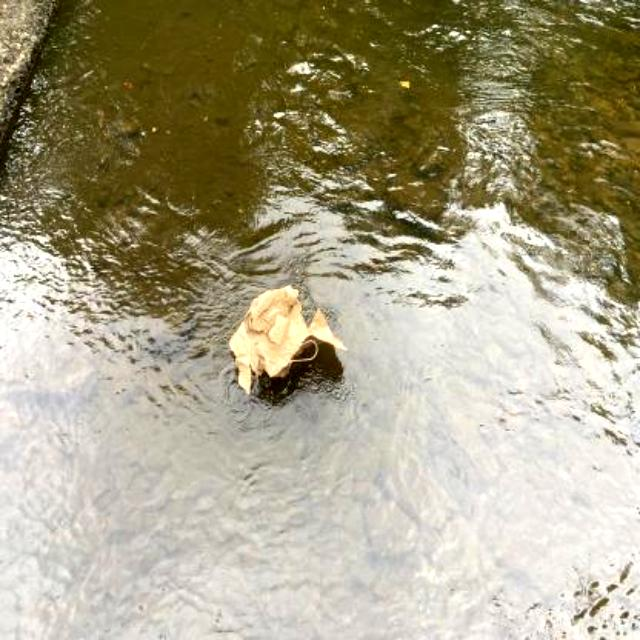Paper: (220, 282, 352, 403)
